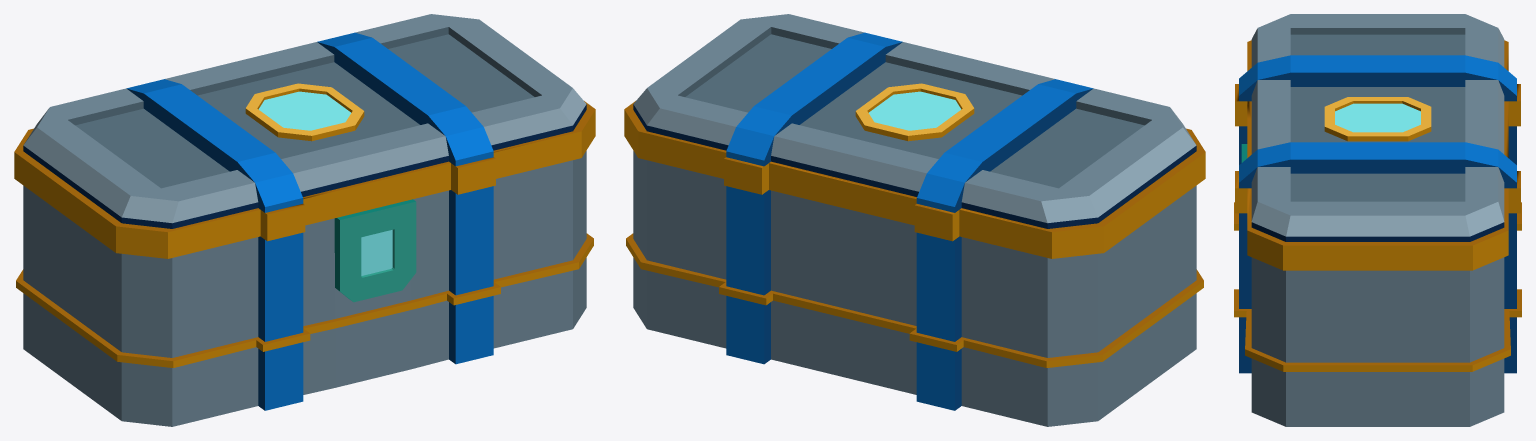
The model's file is CrateBlue_01.glb.
3 views of the same model, side by side, from view 1: azimuth 30°, elevation 25°; view 2: azimuth 150°, elevation 25°; view 3: azimuth 270°, elevation 25° (orthographic). The views are drawn at different scales.
Parts seen in each view (by area): view 1: CrateBlue_01; view 2: CrateBlue_01; view 3: CrateBlue_01.
Part boxes in pixels (x1,y1,x2,y2): CrateBlue_01: [14, 14, 595, 426]; CrateBlue_01: [624, 14, 1205, 426]; CrateBlue_01: [1234, 14, 1521, 426].
Size of what is drawn, in the model's own units: 1.18 by 0.5396 by 0.6594.
1 material, 1 textured.
